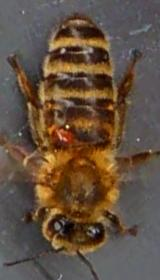varroa_mite: (44, 120, 82, 142)
